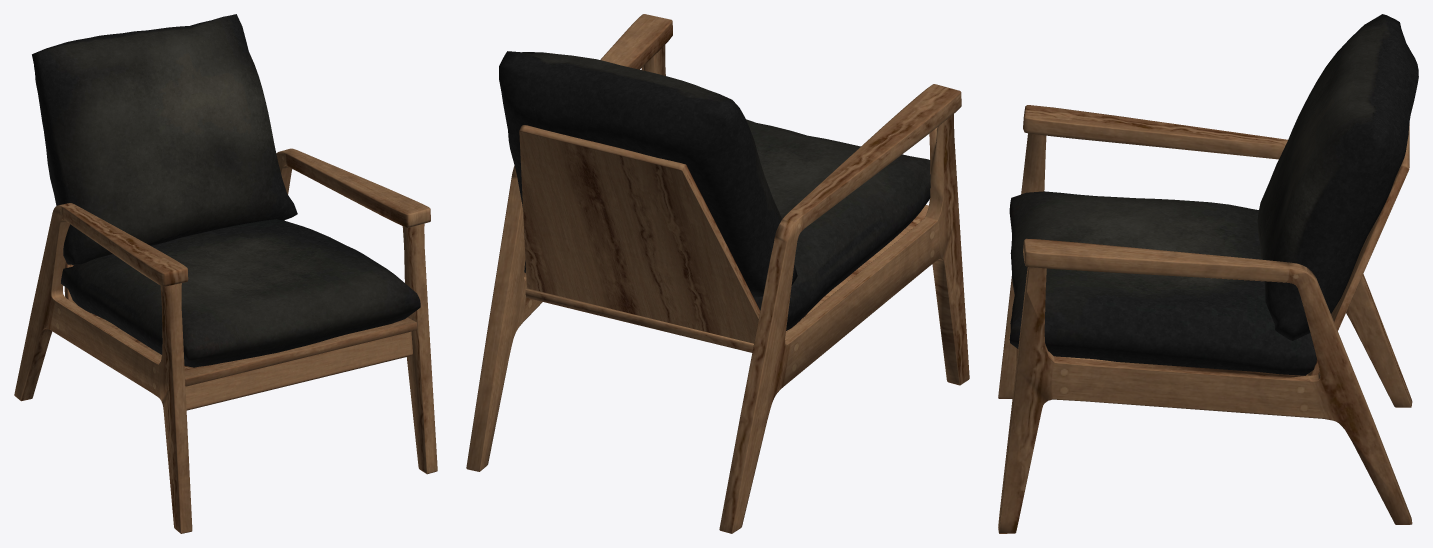
Rendered from modern_arm_chair_01.glb.
3 renders of one model, left to right at view 1: azimuth 30°, elevation 25°; view 2: azimuth 150°, elevation 25°; view 3: azimuth 270°, elevation 25°, orthographic. The views are drawn at different scales.
Parts seen in each view (by area): view 1: modern_arm_chair_01; view 2: modern_arm_chair_01; view 3: modern_arm_chair_01.
Part boxes in pixels (x1,y1,x2,y2): modern_arm_chair_01: [14, 14, 437, 533]; modern_arm_chair_01: [466, 14, 969, 533]; modern_arm_chair_01: [998, 14, 1418, 533].
Size of the model in its own units: 0.8203 by 1.02 by 0.9866.
Materials: 2 (2 with a texture image).
